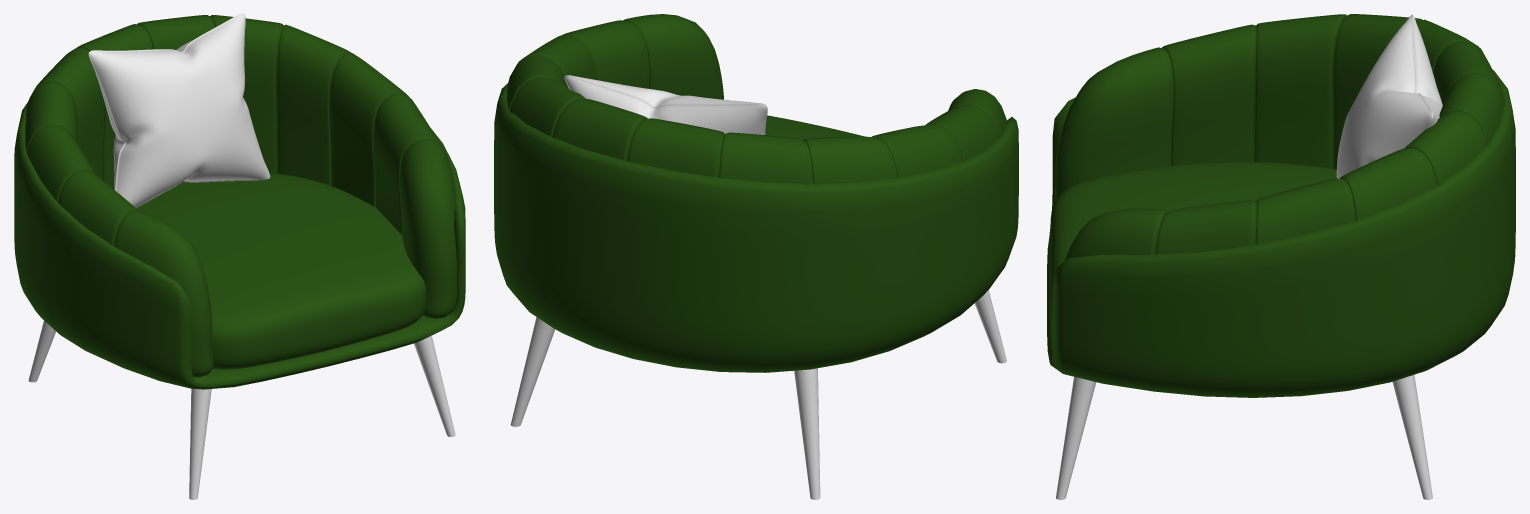
File: Chair2.fbx
The picture shows the model from 3 angles, left to right: view 1: azimuth 30°, elevation 25°; view 2: azimuth 150°, elevation 25°; view 3: azimuth 270°, elevation 25°; orthographic projection. The views are drawn at different scales.
Parts seen in each view (by area): view 1: Cube.001, Cube.002, Cube, Plane, Cylinder; view 2: Cube, Cube.001, Plane, Cylinder, Cube.002; view 3: Cube, Cube.001, Cube.002, Plane, Cylinder.
Boxes of the visible parts, left/top/right/bottom form: Cube.001: left=25, top=15, right=456, bottom=377; Cube.002: left=136, top=173, right=426, bottom=369; Cube: left=14, top=102, right=465, bottom=389; Plane: left=88, top=14, right=270, bottom=208; Cylinder: left=28, top=320, right=455, bottom=499; Cube: left=494, top=83, right=1018, bottom=372; Cube.001: left=506, top=14, right=1007, bottom=185; Plane: left=564, top=75, right=767, bottom=134; Cylinder: left=510, top=290, right=1006, bottom=499; Cube.002: left=765, top=115, right=864, bottom=140; Cube: left=1047, top=69, right=1515, bottom=397; Cube.001: left=1055, top=14, right=1504, bottom=260; Cube.002: left=1050, top=162, right=1336, bottom=322; Plane: left=1336, top=14, right=1442, bottom=178; Cylinder: left=1056, top=375, right=1432, bottom=499.
Size of the model in its own units: 169 by 139 by 160.
